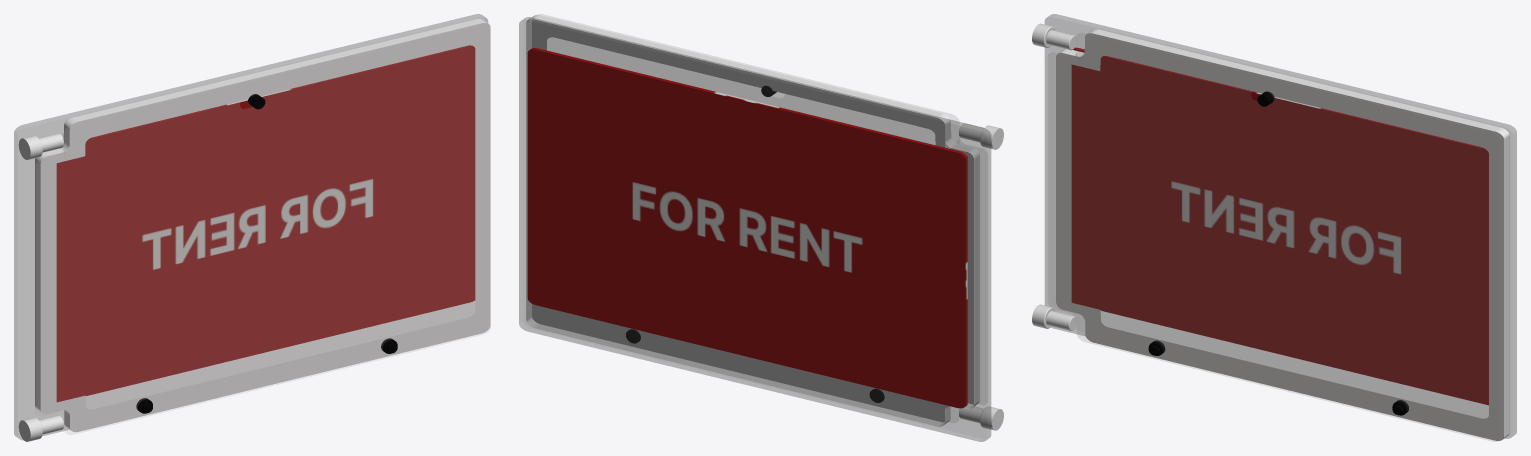
Rendered from a5landslf8.glb.
3 views of the same model, side by side, from view 1: azimuth 30°, elevation 25°; view 2: azimuth 150°, elevation 25°; view 3: azimuth 330°, elevation 25° (orthographic).
Parts seen in each view (by area): view 1: a4horzoneinittwo; view 2: a4horzoneinittwo; view 3: a4horzoneinittwo.
Part boxes in pixels (x1,y1,x2,y2): a4horzoneinittwo: (14, 14, 490, 441); a4horzoneinittwo: (519, 14, 1003, 441); a4horzoneinittwo: (1032, 14, 1516, 441).
Bounding box in the file's own units: 0.3477 × 0.2208 × 0.0214.
6 materials, 1 textured.
